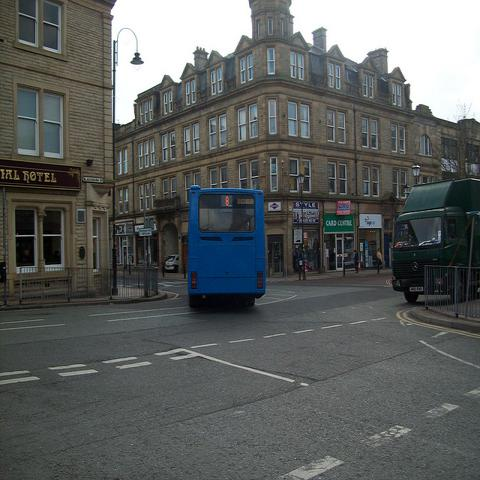bus: (188, 183, 268, 309)
car: (165, 254, 178, 272)
truck: (392, 178, 480, 302)
